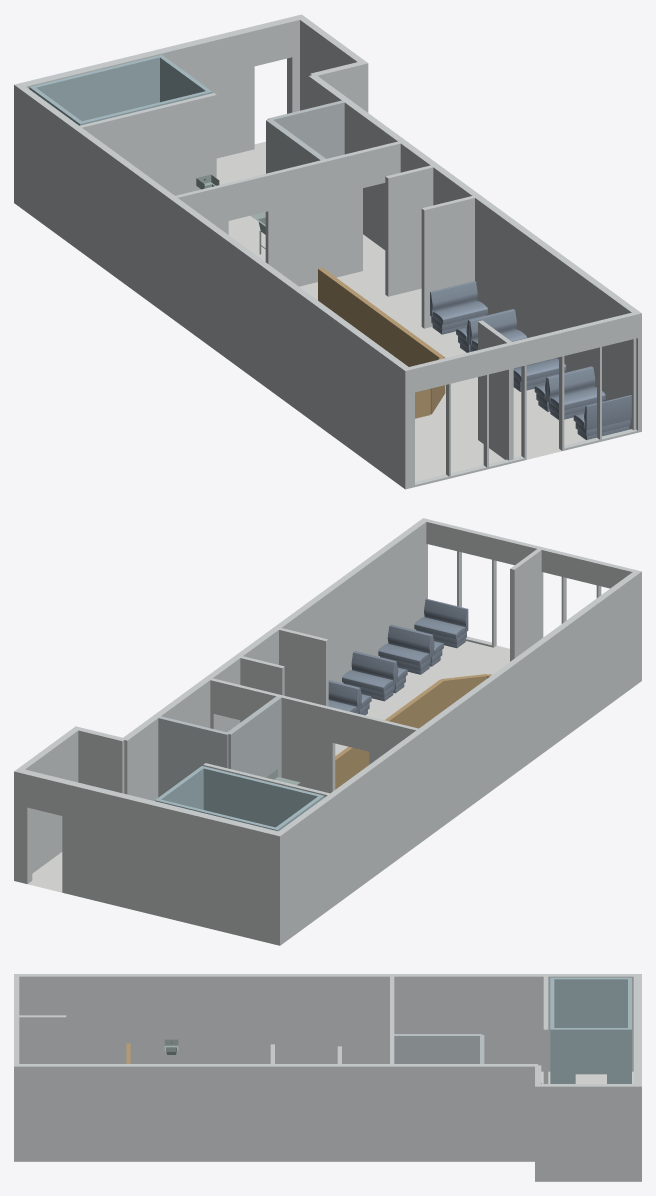
3 renders of one model, top to bottom at view 1: azimuth 30°, elevation 25°; view 2: azimuth 150°, elevation 25°; view 3: azimuth 270°, elevation 25°, orthographic. The views are drawn at different scales.
Parts seen in each view (by area): view 1: WestWall-segment-001, EastMainWall-segment-001, PreviewFloorDatum_NoConstructionThickness, CoolerSurroundSouth-segment-001, KitchenRestroomSouth-segment-004, BoothNorthPartition-segment-001, BeverageNorthPartition-segment-001, CoolerNorth-segment-001, RearWall-segment-003, PonyCounterLong-segment-001, KitchenRestroomSouth-segment-005, RearWall-segment-001 (+23 smaller); view 2: WestWall-segment-001, EastMainWall-segment-001, RearWall-segment-001, RearWall-segment-003, PreviewFloorDatum_NoConstructionThickness, CoolerSouth-segment-002, EastRearWall-segment-001, BoothNorthPartition-segment-001, KitchenRestroomSouth-segment-004, KitchenRestroomSouth-segment-005, PonyCounterLong-segment-001, RestroomNorth-segment-003 (+27 smaller); view 3: EastMainWall-segment-001, WestWall-segment-001, EastRearWall-segment-001, CoolerWest-segment-001, RestroomWest-segment-002, EntryScreenPartition-segment-003, CoolerEast-segment-005, EntryScreenPartition-segment-002, PreviewFloorDatum_NoConstructionThickness, RearWall-segment-003, CoolerEast-segment-008, CoolerEast-segment-003 (+4 smaller).
Boxes of the visible parts, left/top/right/bottom form: WestWall-segment-001: left=16, top=85, right=409, bottom=487; EastMainWall-segment-001: left=308, top=74, right=639, bottom=430; PreviewFloorDatum_NoConstructionThickness: left=216, top=141, right=585, bottom=481; CoolerSurroundSouth-segment-001: left=79, top=93, right=216, bottom=195; KitchenRestroomSouth-segment-004: left=265, top=188, right=362, bottom=286; BoothNorthPartition-segment-001: left=421, top=196, right=474, bottom=328; BeverageNorthPartition-segment-001: left=385, top=165, right=433, bottom=296; CoolerNorth-segment-001: left=34, top=55, right=161, bottom=121; RearWall-segment-003: left=21, top=27, right=254, bottom=88; PonyCounterLong-segment-001: left=318, top=267, right=444, bottom=366; KitchenRestroomSouth-segment-005: left=266, top=150, right=362, bottom=211; RearWall-segment-001: left=197, top=66, right=254, bottom=158; WestWall-segment-001: left=276, top=571, right=640, bottom=943; EastMainWall-segment-001: left=121, top=519, right=427, bottom=800; RearWall-segment-001: left=62, top=816, right=273, bottom=944; RearWall-segment-003: left=62, top=780, right=277, bottom=867; PreviewFloorDatum_NoConstructionThickness: left=27, top=641, right=509, bottom=892; CoolerSouth-segment-002: left=202, top=767, right=318, bottom=827; EastRearWall-segment-001: left=16, top=727, right=79, bottom=873; BoothNorthPartition-segment-001: left=279, top=628, right=328, bottom=706; KitchenRestroomSouth-segment-004: left=281, top=730, right=335, bottom=793; KitchenRestroomSouth-segment-005: left=245, top=687, right=334, bottom=742; PonyCounterLong-segment-001: left=335, top=679, right=443, bottom=789; RestroomNorth-segment-003: left=158, top=716, right=226, bottom=766; EastMainWall-segment-001: left=16, top=1064, right=537, bottom=1161; WestWall-segment-001: left=16, top=974, right=637, bottom=1071; EastRearWall-segment-001: left=538, top=1084, right=637, bottom=1181; CoolerWest-segment-001: left=552, top=977, right=629, bottom=1074; RestroomWest-segment-002: left=394, top=1034, right=482, bottom=1063; EntryScreenPartition-segment-003: left=19, top=1036, right=66, bottom=1063; CoolerEast-segment-005: left=575, top=1028, right=606, bottom=1061; EntryScreenPartition-segment-002: left=19, top=1015, right=66, bottom=1036; PreviewFloorDatum_NoConstructionThickness: left=14, top=1071, right=641, bottom=1181; RearWall-segment-003: left=633, top=976, right=641, bottom=1066; CoolerEast-segment-008: left=552, top=1028, right=575, bottom=1061; CoolerEast-segment-003: left=607, top=1028, right=627, bottom=1061.
Bounding box in the file's own units: 7.75 × 3.05 × 18.26.
